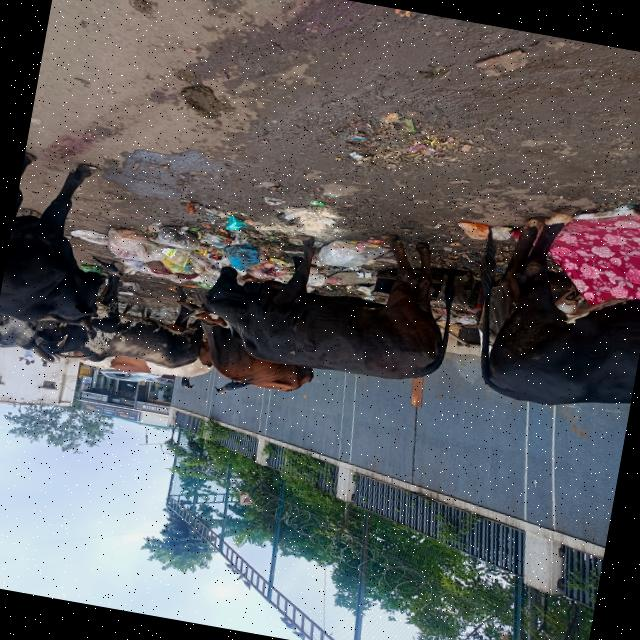garbage: (104, 211, 292, 296)
